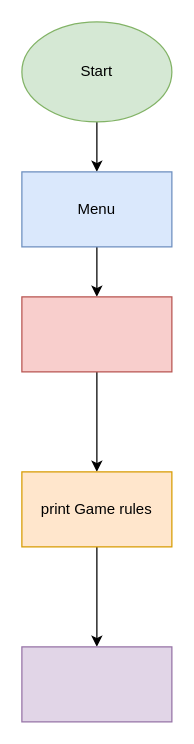
The diagram is 194 pixels wide and 744 high, and some of its shapes have lost their labels. Here are the shapes that lost their labels. From the top down, the centre of each, then its label:
[96,334]: Help
[96,684]: End
